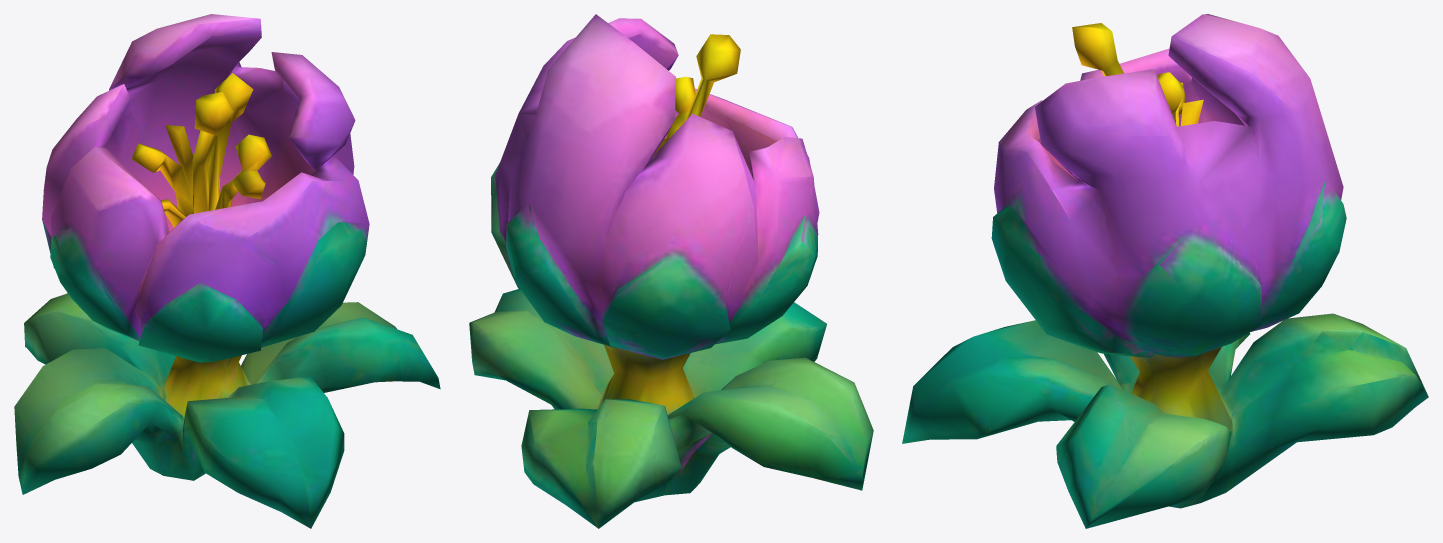
Rendered from alien_plant-D37sCYxN.glb.
3 renders of one model, left to right at view 1: azimuth 30°, elevation 25°; view 2: azimuth 150°, elevation 25°; view 3: azimuth 270°, elevation 25°, orthographic. The views are drawn at different scales.
Parts seen in each view (by area): view 1: alien_plant; view 2: alien_plant; view 3: alien_plant.
Part boxes in pixels (left/top/right/bottom): alien_plant: left=14, top=14, right=440, bottom=528; alien_plant: left=469, top=14, right=873, bottom=528; alien_plant: left=902, top=14, right=1428, bottom=528.
Bounding box in the file's own units: 1.23 × 1.3 × 1.3.
Materials: 1 (1 with a texture image).
